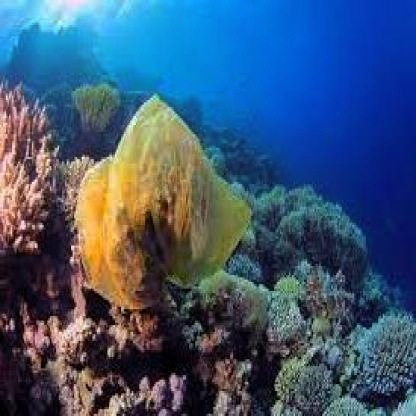pbag: (74, 91, 253, 311)
